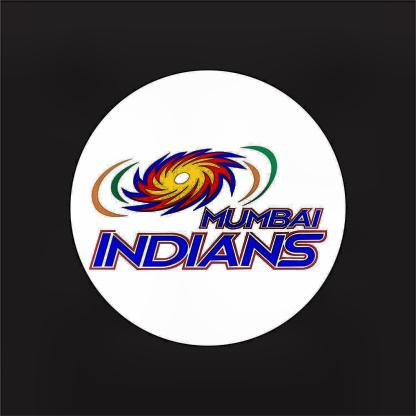Mumbai Indians: (84, 148, 333, 268)
